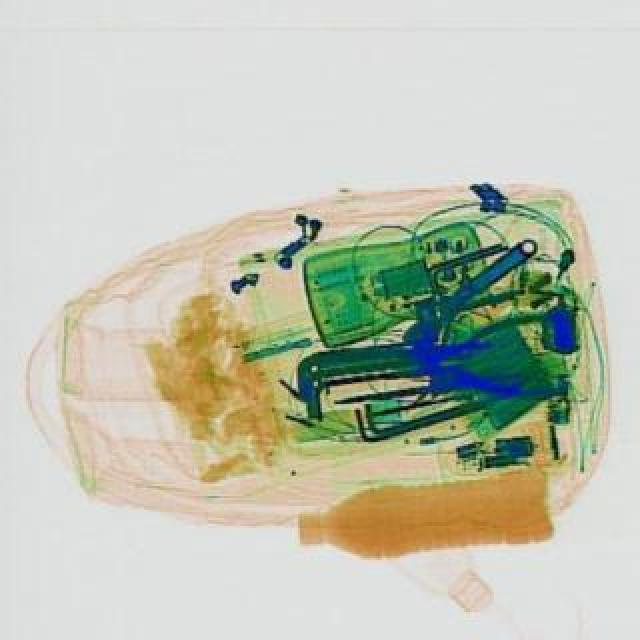scissors: (386, 222, 546, 354)
wrench: (408, 308, 566, 410)
